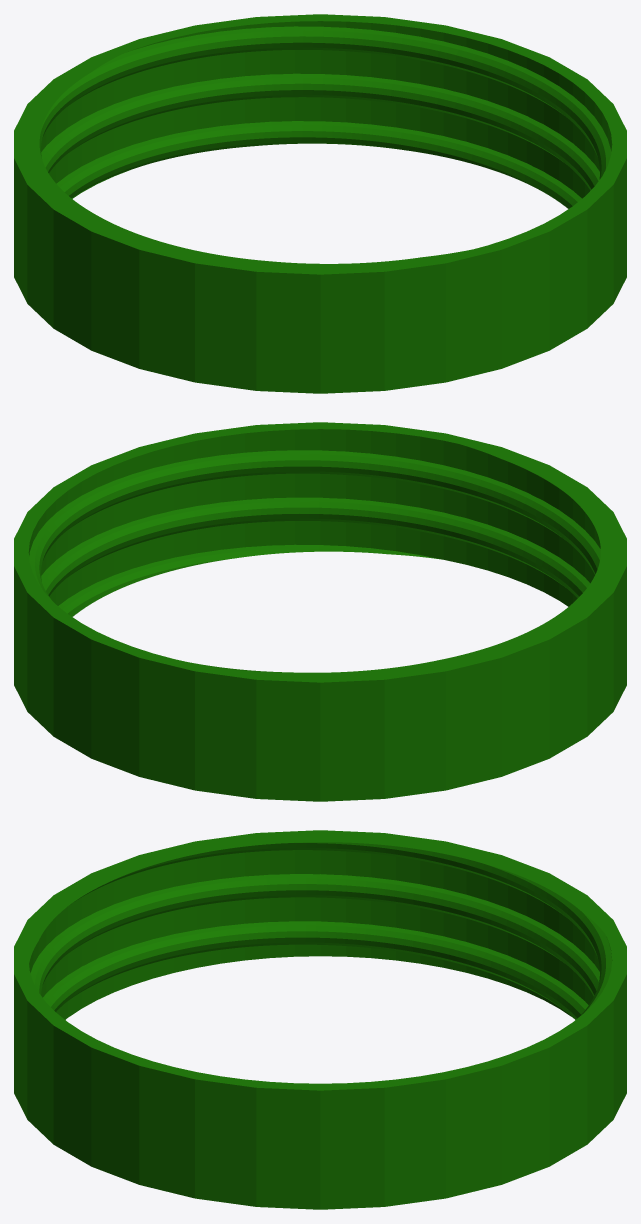
File: MasonTest.stl.glb
The picture shows the model from 3 angles, top to bottom: view 1: azimuth 30°, elevation 25°; view 2: azimuth 150°, elevation 25°; view 3: azimuth 270°, elevation 25°; orthographic projection.
Visible parts, largest first — view 1: MasonTest; view 2: MasonTest; view 3: MasonTest.
Boxes of the visible parts, x1,y1,x2,y2 form: MasonTest: (14, 14, 626, 393); MasonTest: (14, 422, 626, 801); MasonTest: (14, 830, 626, 1209).
Bounding box in the file's own units: 75 × 16 × 74.59.
